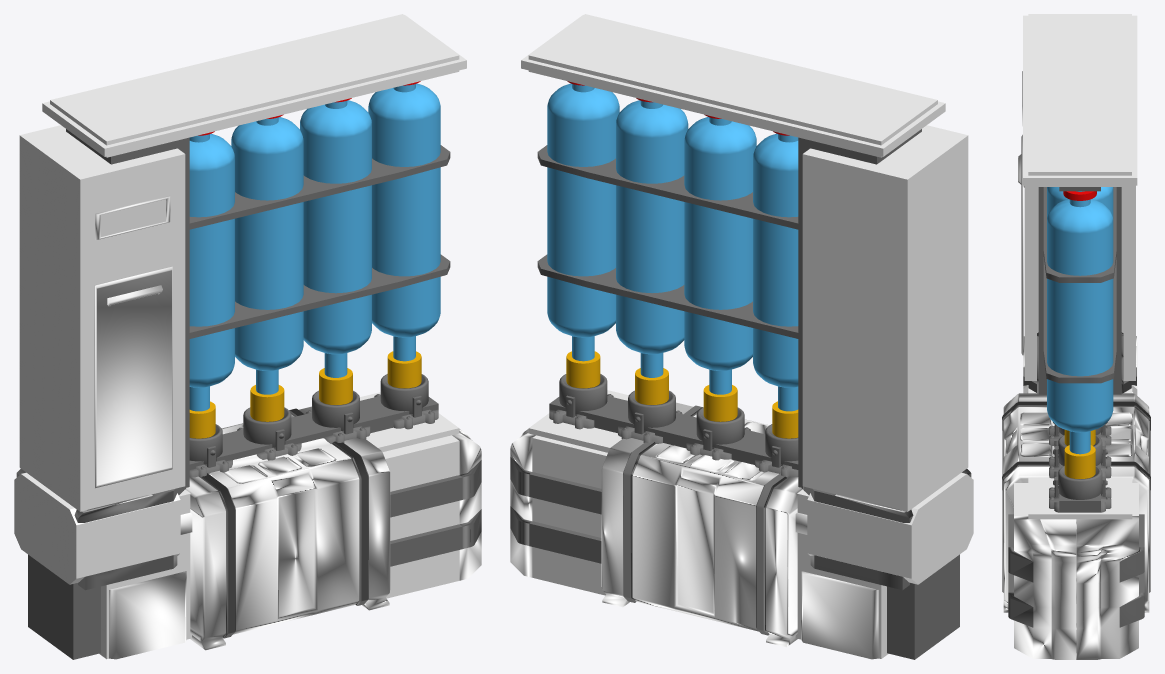
The picture shows the model from 3 angles, left to right: view 1: azimuth 30°, elevation 25°; view 2: azimuth 150°, elevation 25°; view 3: azimuth 270°, elevation 25°; orthographic projection. The views are drawn at different scales.
Parts seen in each view (by area): view 1: LOXCH4-A_mesh; view 2: LOXCH4-A_mesh; view 3: LOXCH4-A_mesh.
Boxes of the visible parts, x1,y1,x2,y2 form: LOXCH4-A_mesh: [14, 14, 481, 659]; LOXCH4-A_mesh: [510, 14, 973, 659]; LOXCH4-A_mesh: [1002, 14, 1150, 659].
Size of the model in its own units: 211 by 254 by 71.55.
